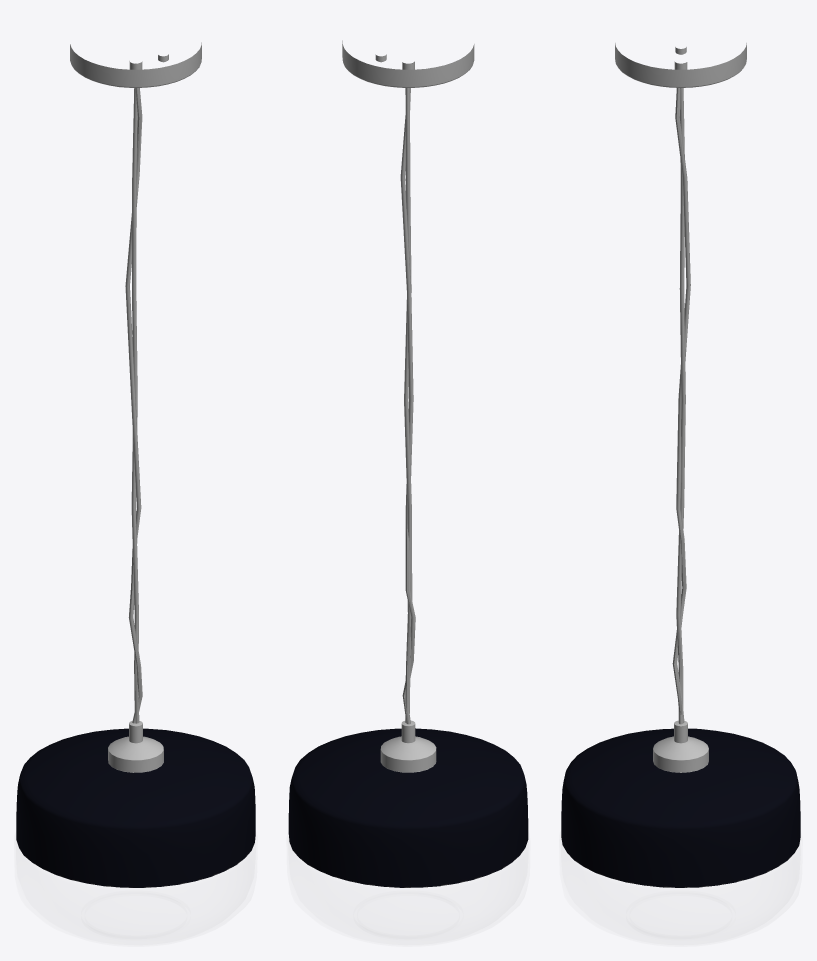
3 renders of one model, left to right at view 1: azimuth 30°, elevation 25°; view 2: azimuth 150°, elevation 25°; view 3: azimuth 270°, elevation 25°, orthographic.
Parts seen in each view (by area): view 1: "$ANCDOLECBJBAAAAAICBAAAAAAAAAOIGEEBMP"; view 2: "$ANCDOLECBJBAAAAAICBAAAAAAAAAOIGEEBMP"; view 3: "$ANCDOLECBJBAAAAAICBAAAAAAAAAOIGEEBMP".
Part boxes in pixels (x1,y1,x2,y2): "$ANCDOLECBJBAAAAAICBAAAAAAAAAOIGEEBMP": [16, 42, 255, 887]; "$ANCDOLECBJBAAAAAICBAAAAAAAAAOIGEEBMP": [288, 40, 528, 887]; "$ANCDOLECBJBAAAAAICBAAAAAAAAAOIGEEBMP": [561, 43, 800, 887].
Bounding box in the file's own units: 0.2651 × 1.05 × 0.2651.
Materials: 1 (1 with a texture image).
